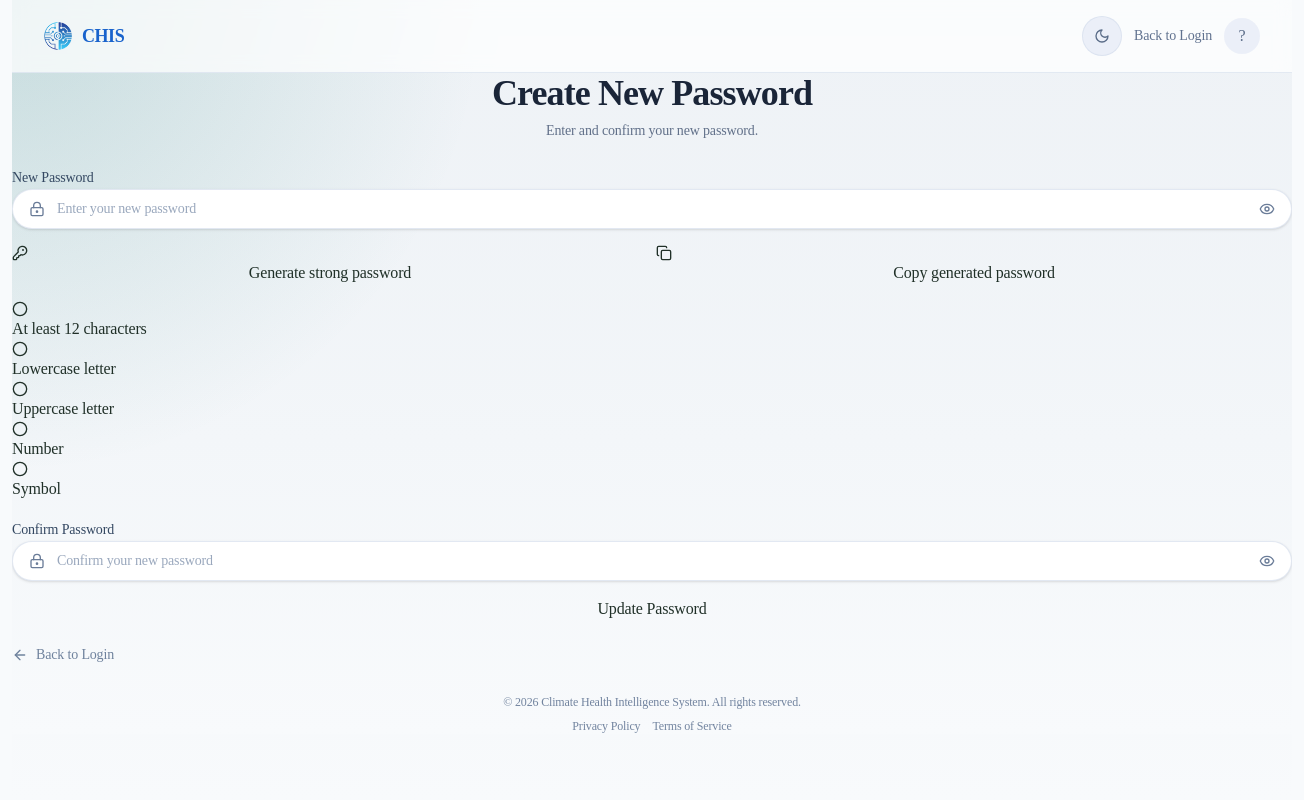
Test: ResetPasswordPage › blocks weak reset passwords before submitting
This screenshot has width=1304, height=800.
Type "longpasswordonly" into the password field labelled "New Password" at (652, 209), box [57, 199, 1247, 219]
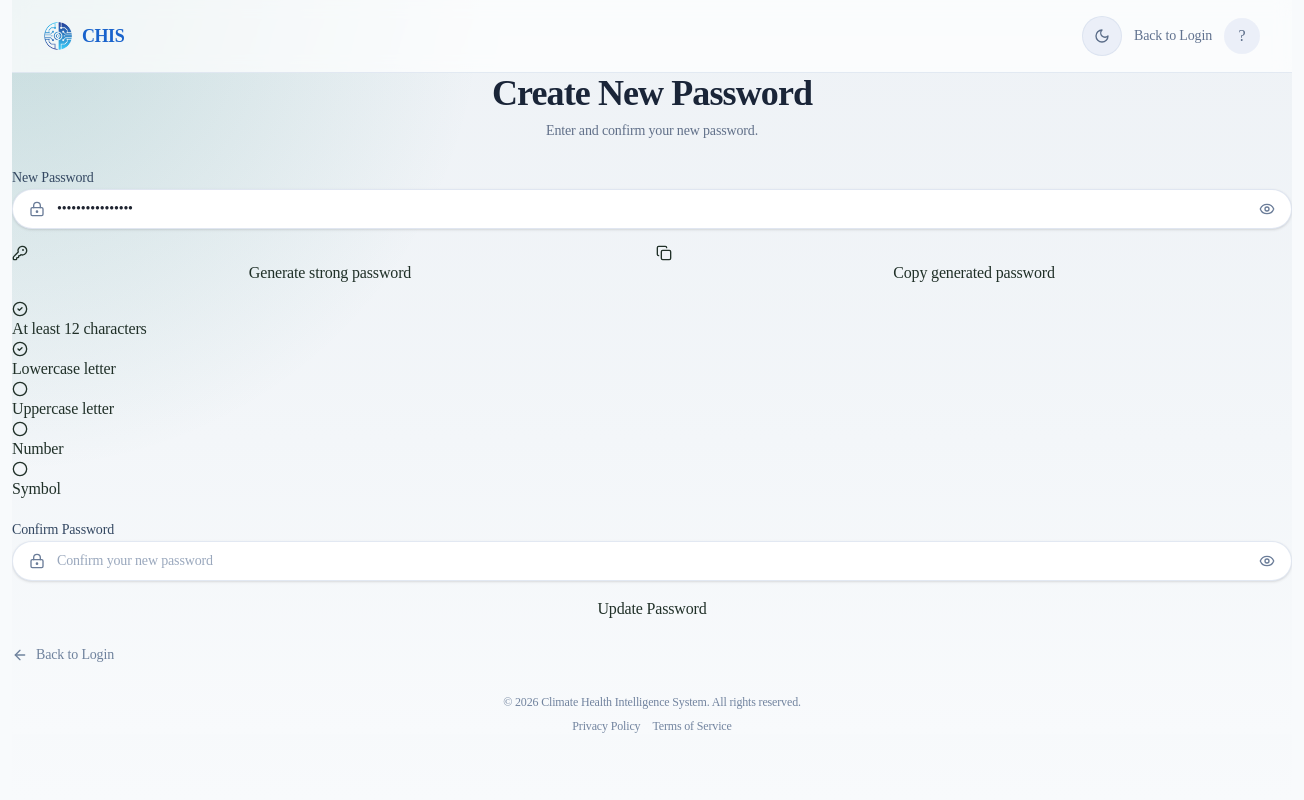
Type "longpasswordonly" into the password field labelled "Confirm Password" at (652, 561), box [57, 551, 1247, 571]
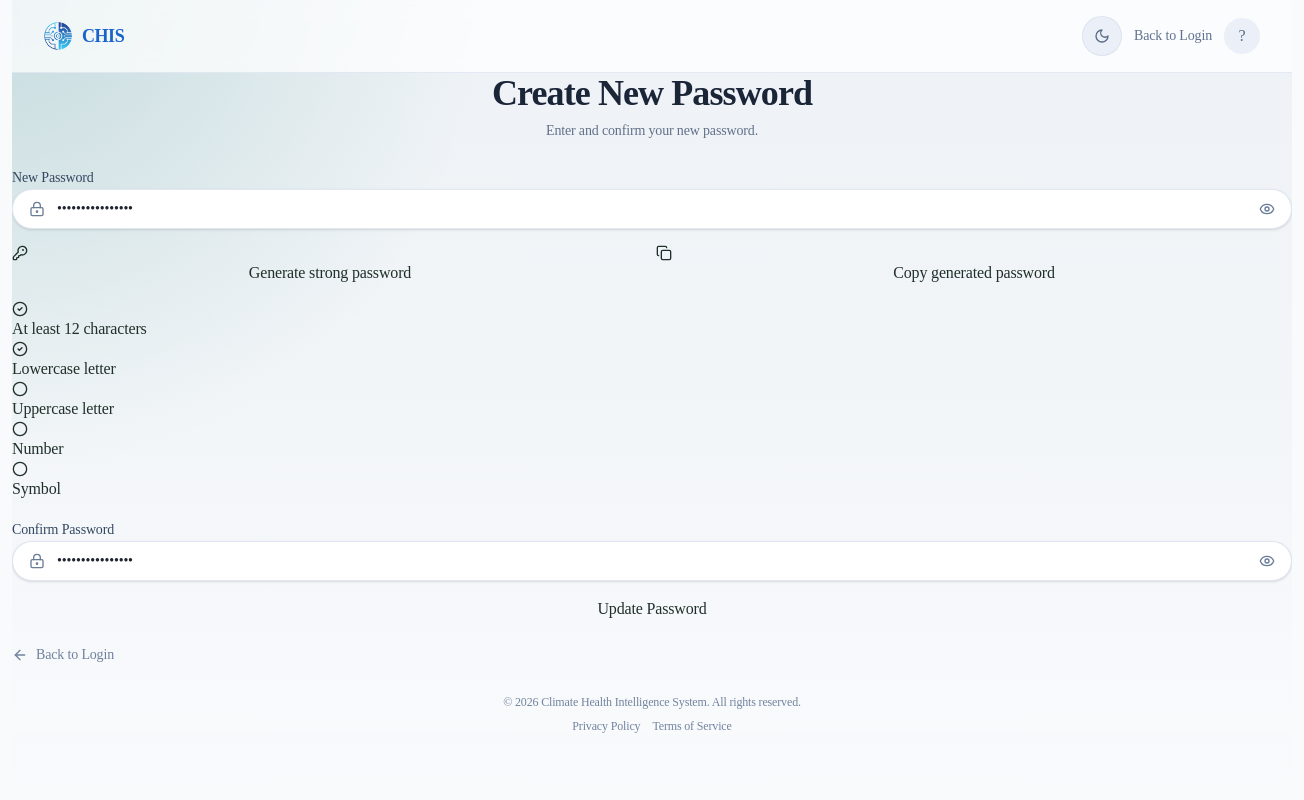
Click the button "Update Password" at (652, 609), box [12, 597, 1292, 621]
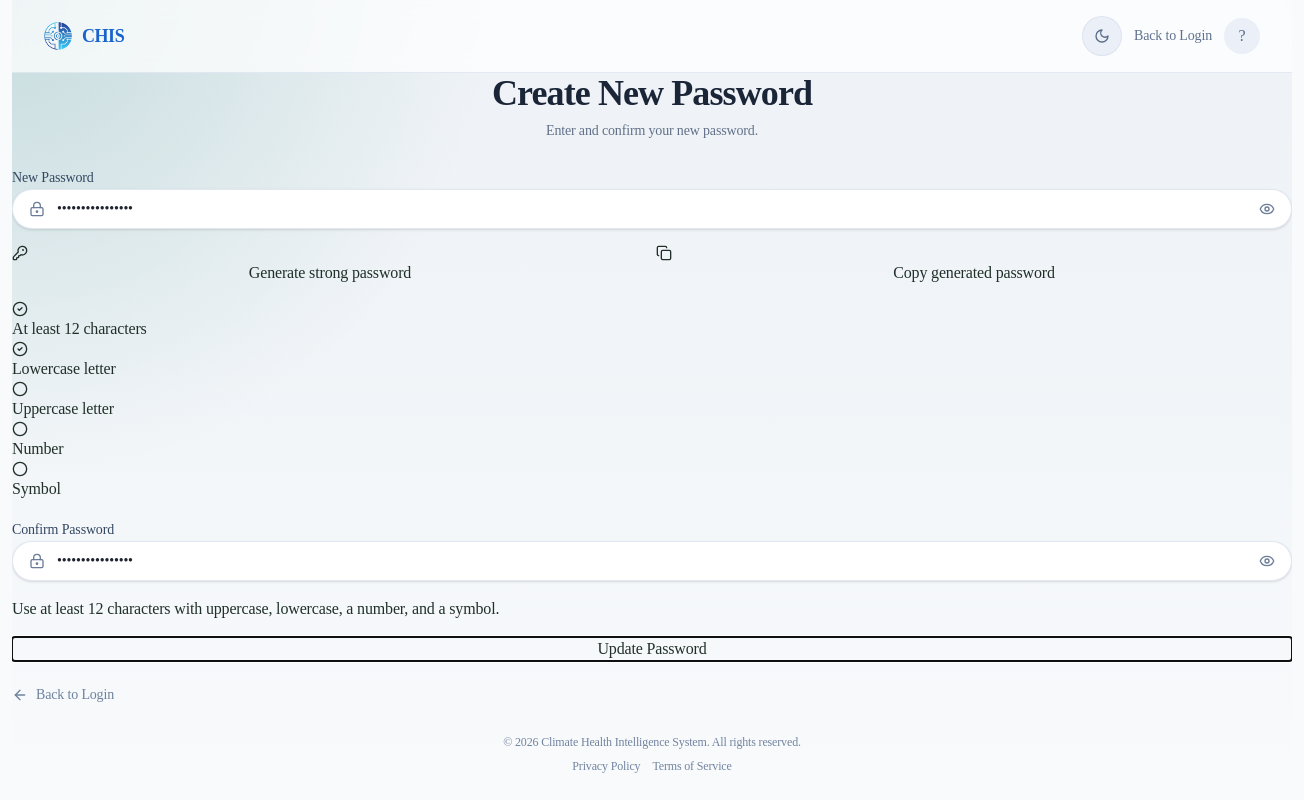
Check: the text "Use at least 12 characters with uppercase, lowercase, a number, and a symbol" is shown, box [12, 600, 499, 617]
